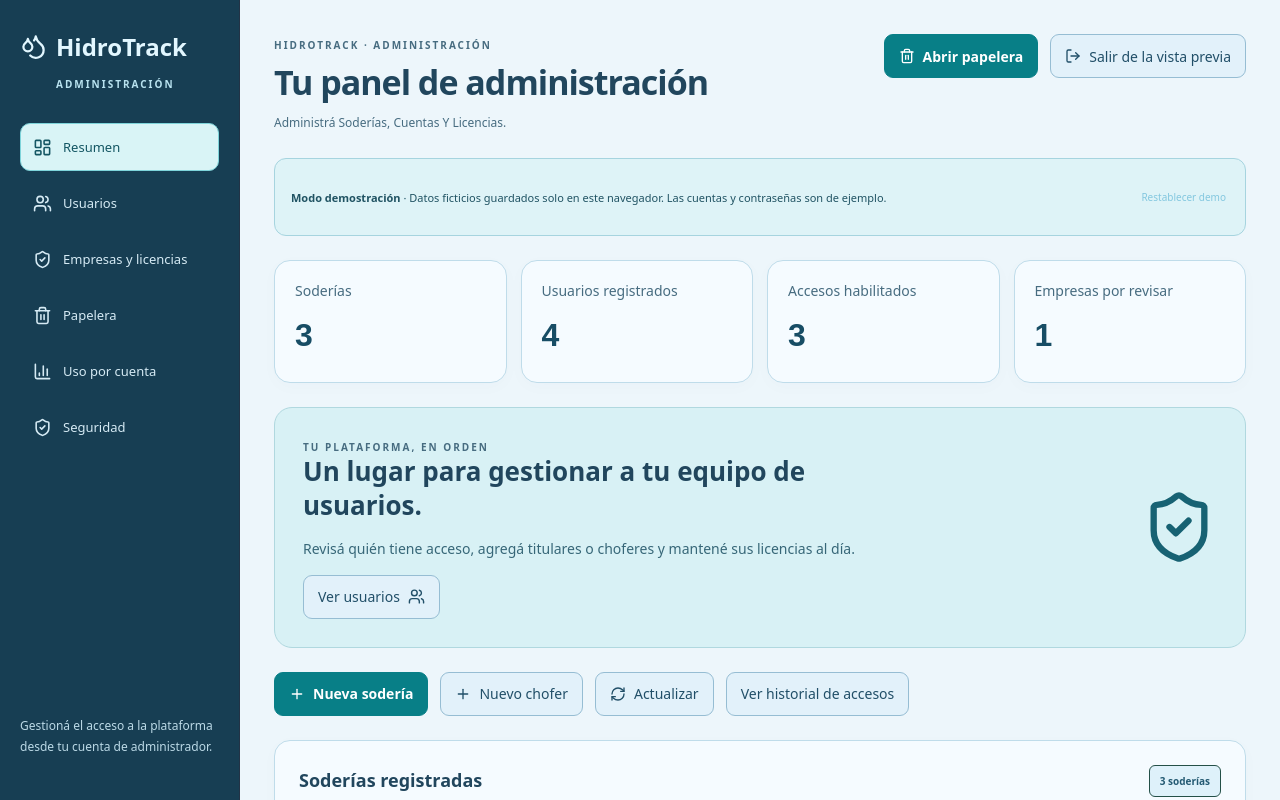
Test: papelera esta en el menu principal y abre recuperacion sin navegar por empresas
Click the button "Papelera" at (120, 315), box [20,291,219,339]
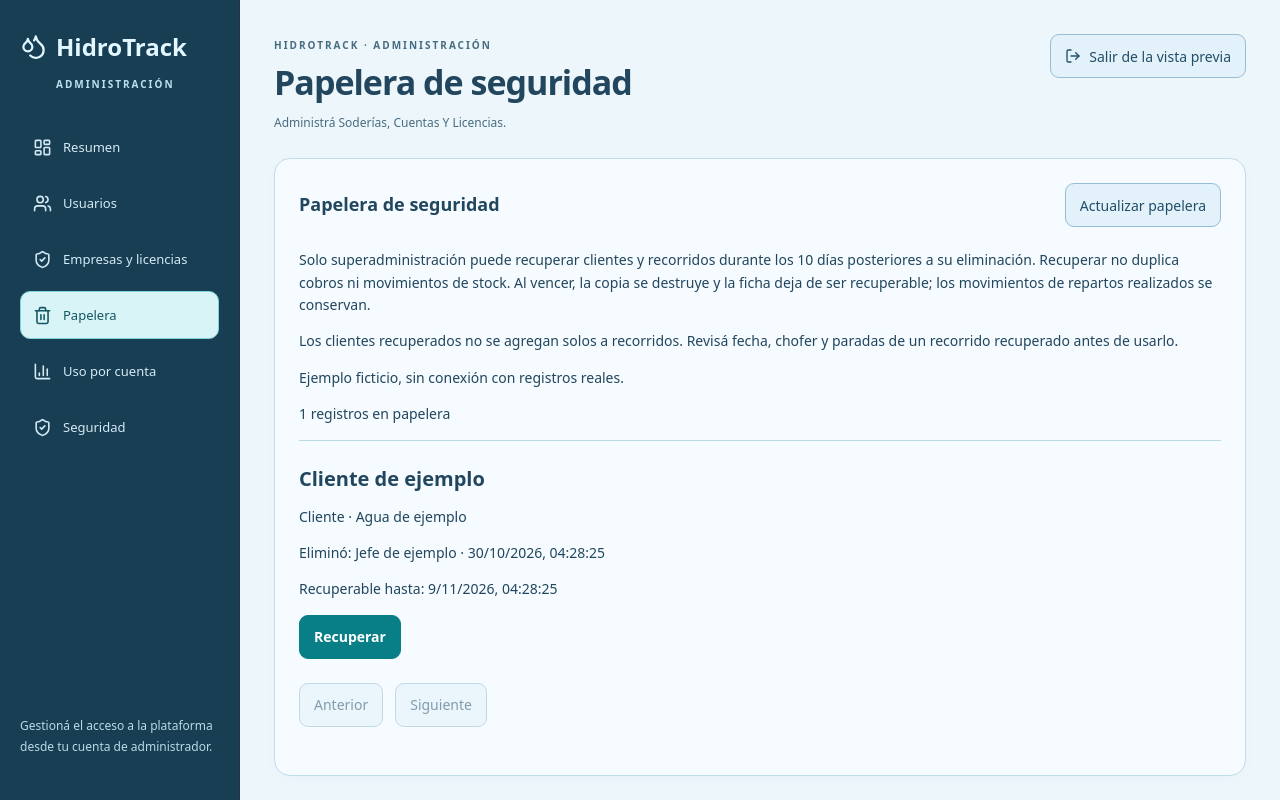
Expected: the element "Papelera de seguridad" is shown, [274,158,1246,776]
Expected: the button "Recuperar" is shown, [299,615,401,659]
Expected: the heading "Soderías registradas" is gone
